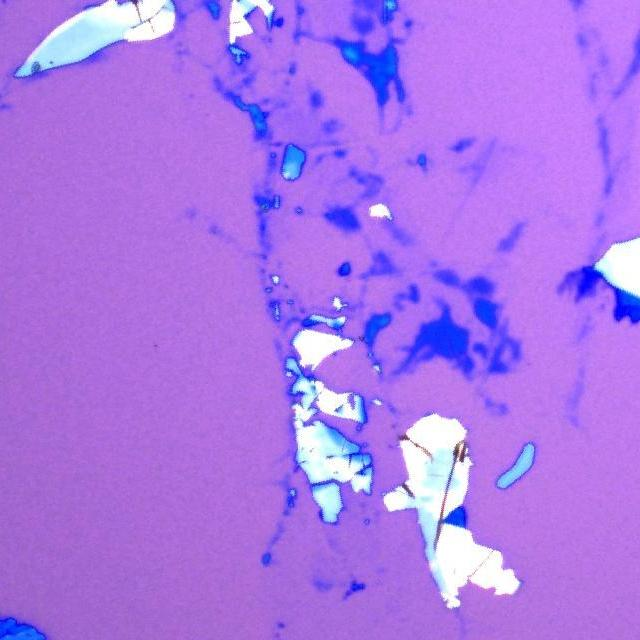monolayer-eWW4: (568, 274, 582, 292), (588, 287, 597, 299)
